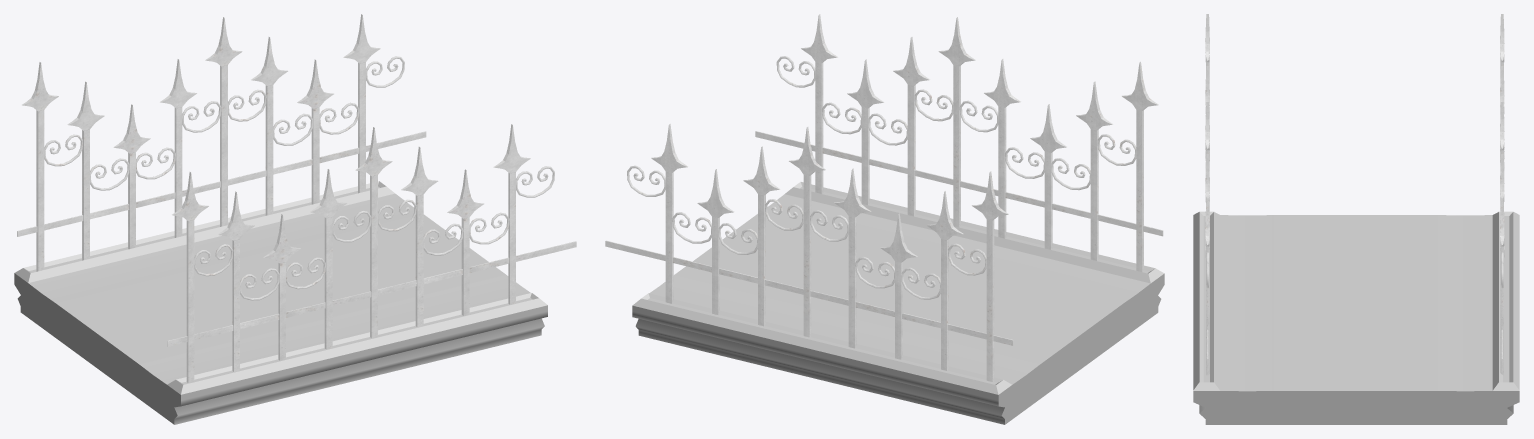
Rendered from kirkkosilta.fbx.
3 views of the same model, side by side, from view 1: azimuth 30°, elevation 25°; view 2: azimuth 150°, elevation 25°; view 3: azimuth 270°, elevation 25° (orthographic).
Parts seen in each view (by area): view 1: Box003, Line016, Line014, Line015, Line013; view 2: Box003, Line013, Line015, Line014, Line016; view 3: Box003, Line015, Line013, Line016, Line014.
Boxes of the visible parts, x1,y1,x2,y2 form: Box003: (14,181,547,424); Line016: (167,169,392,382); Line014: (17,59,242,271); Line015: (355,124,576,338); Line013: (205,14,426,226); Box003: (632,182,1164,424); Line013: (605,123,829,337); Line015: (755,14,979,227); Line014: (789,168,1013,381); Line016: (939,59,1163,272); Box003: (1193,211,1519,424); Line015: (1205,102,1209,375); Line013: (1500,102,1504,375); Line016: (1205,14,1209,166); Line014: (1500,14,1504,168).
Size of the model in its own units: 139 by 80.47 by 97.91.
